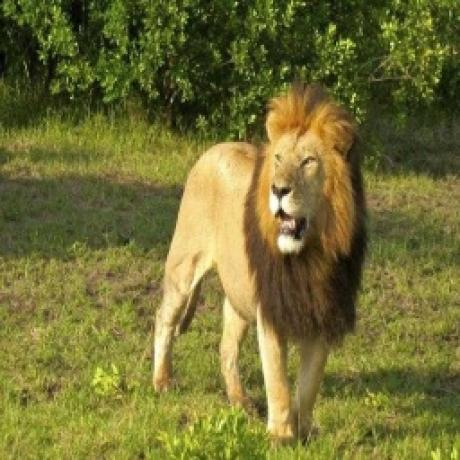Lion: (150, 78, 370, 440)
